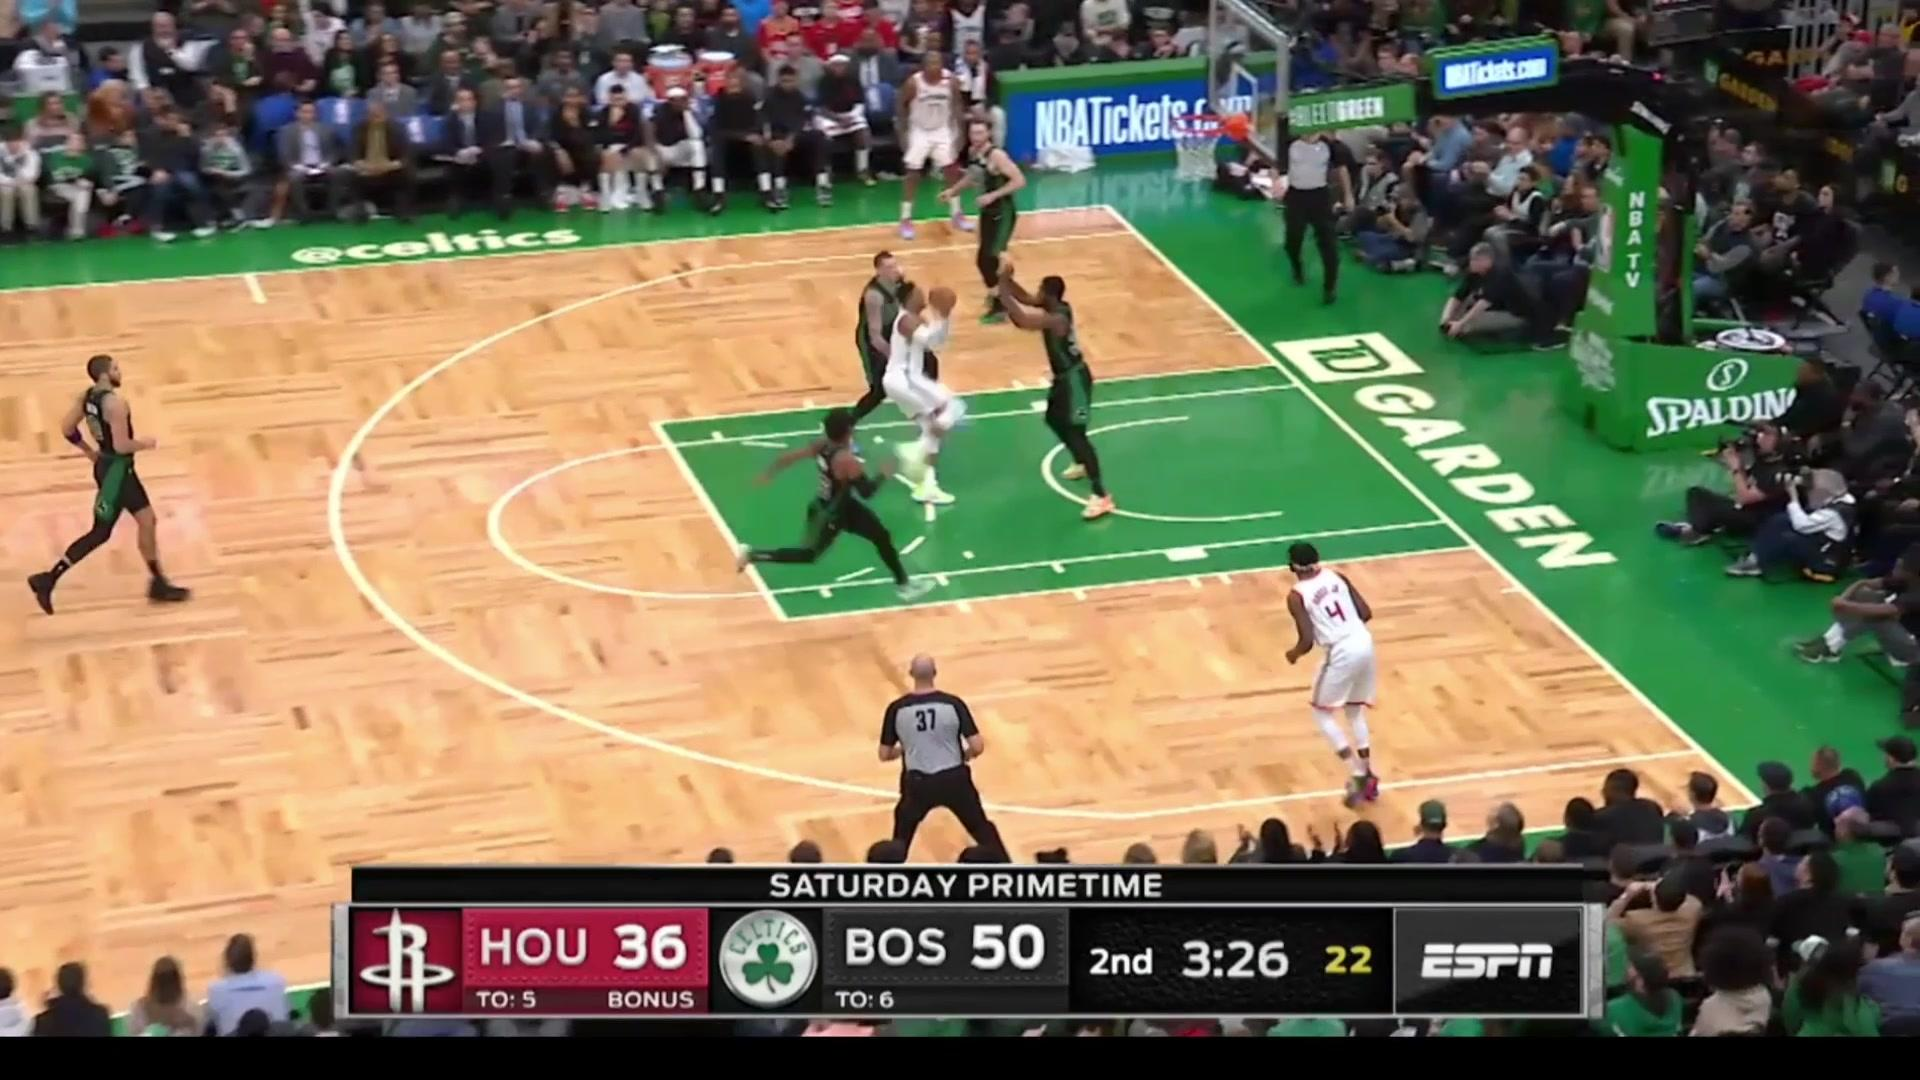no_foul: (857, 235, 973, 488)
